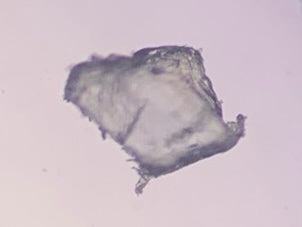microplastic: (59, 44, 253, 197)
